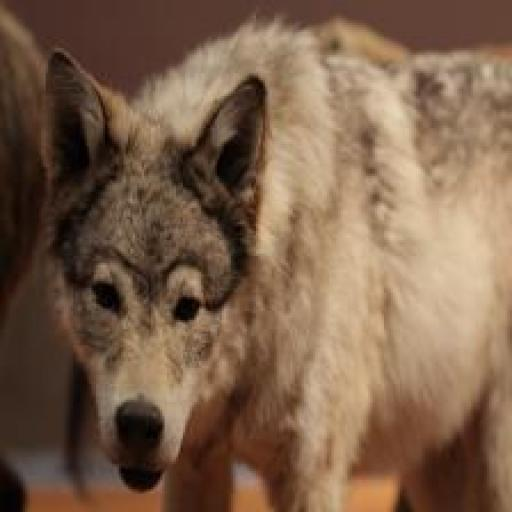wolf: (43, 9, 511, 512), (0, 0, 56, 511)
